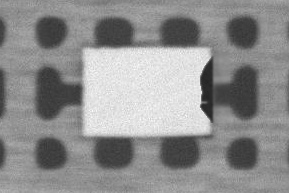DIE_BROKEN: (197, 57, 214, 122)
